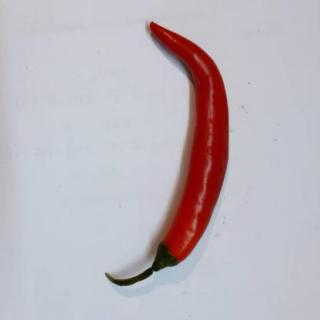Cabai Merah: (100, 22, 231, 286)
